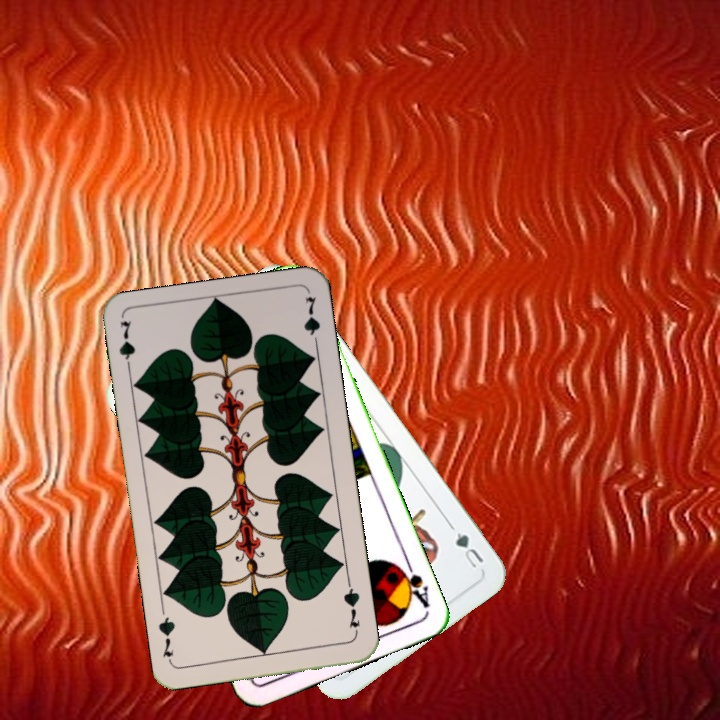G7: (339, 578, 363, 637), (115, 316, 138, 376)
GU: (446, 520, 487, 571)
SA: (392, 555, 433, 611)
